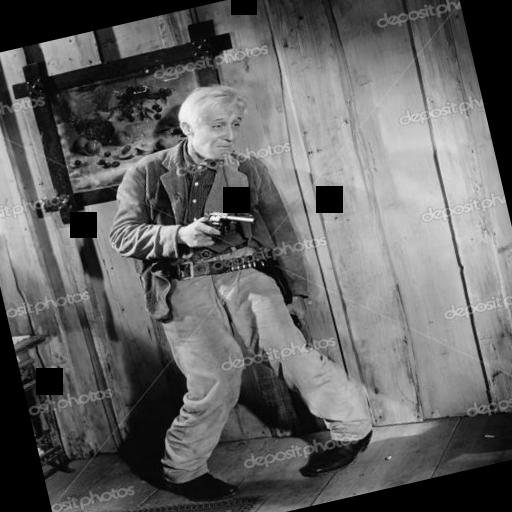Handgun: (162, 199, 265, 251)
